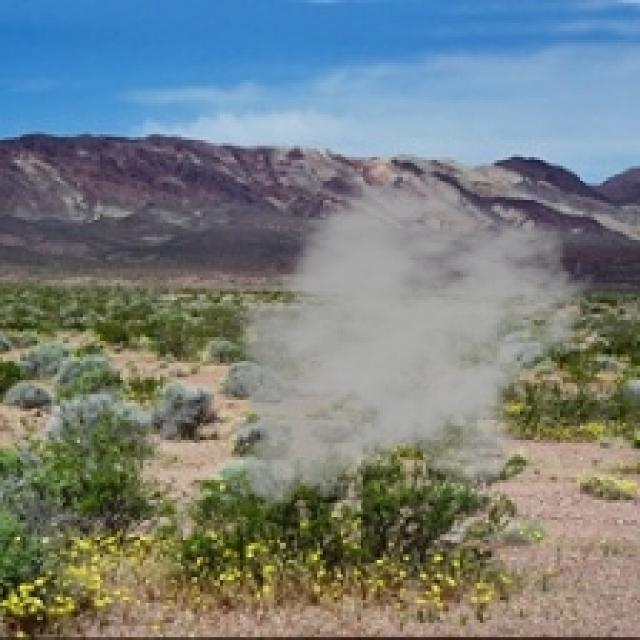smoke: (223, 177, 597, 520)
